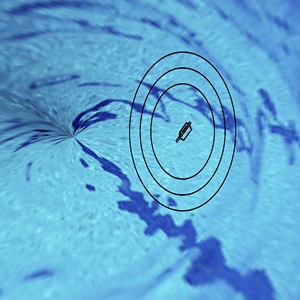circle: (126, 43, 238, 217)
submarine: (171, 114, 197, 152)
